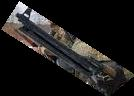gun: (1, 1, 134, 96)
